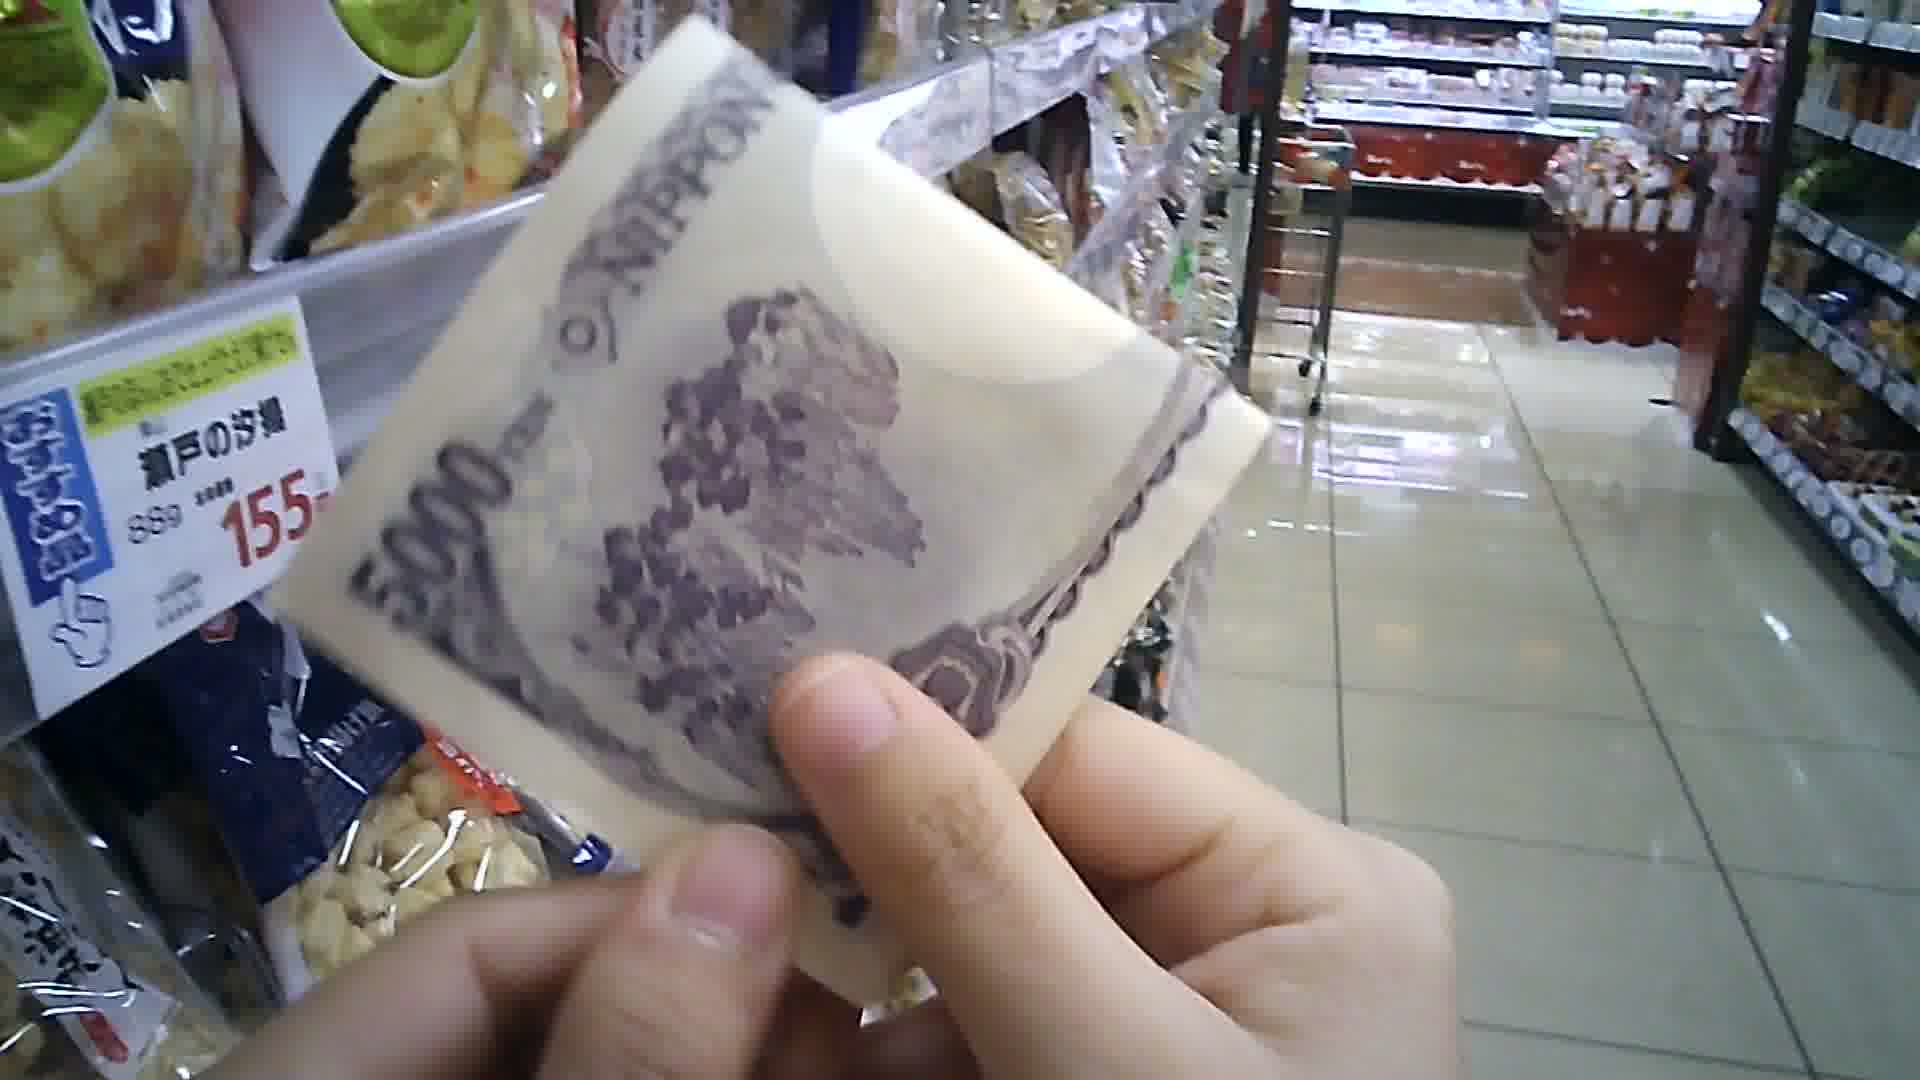5,000 Yen: (278, 21, 1257, 988)
